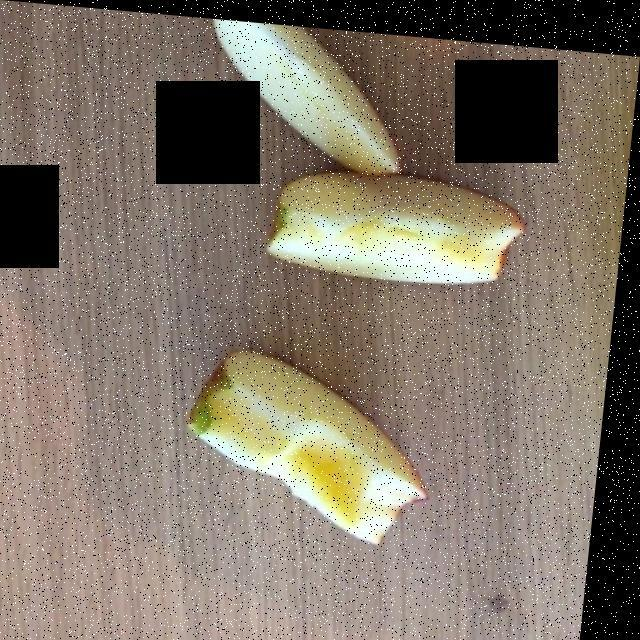apple: (196, 26, 524, 538)
